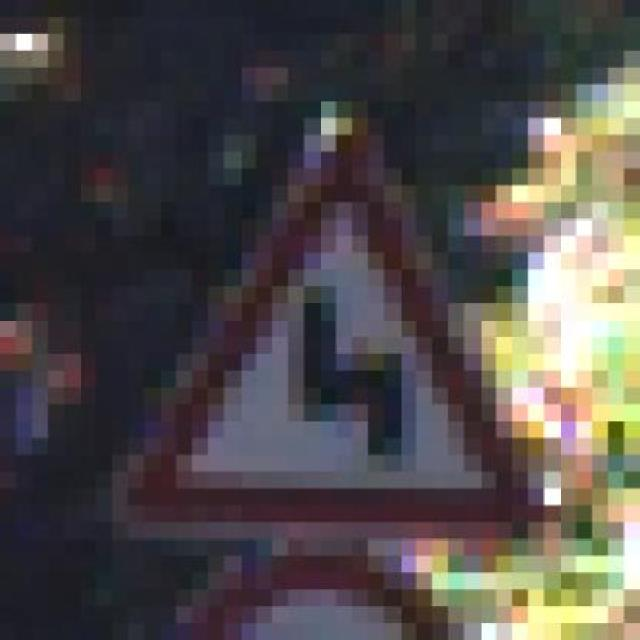Left Zig Zag Traffic: (95, 118, 560, 556)
